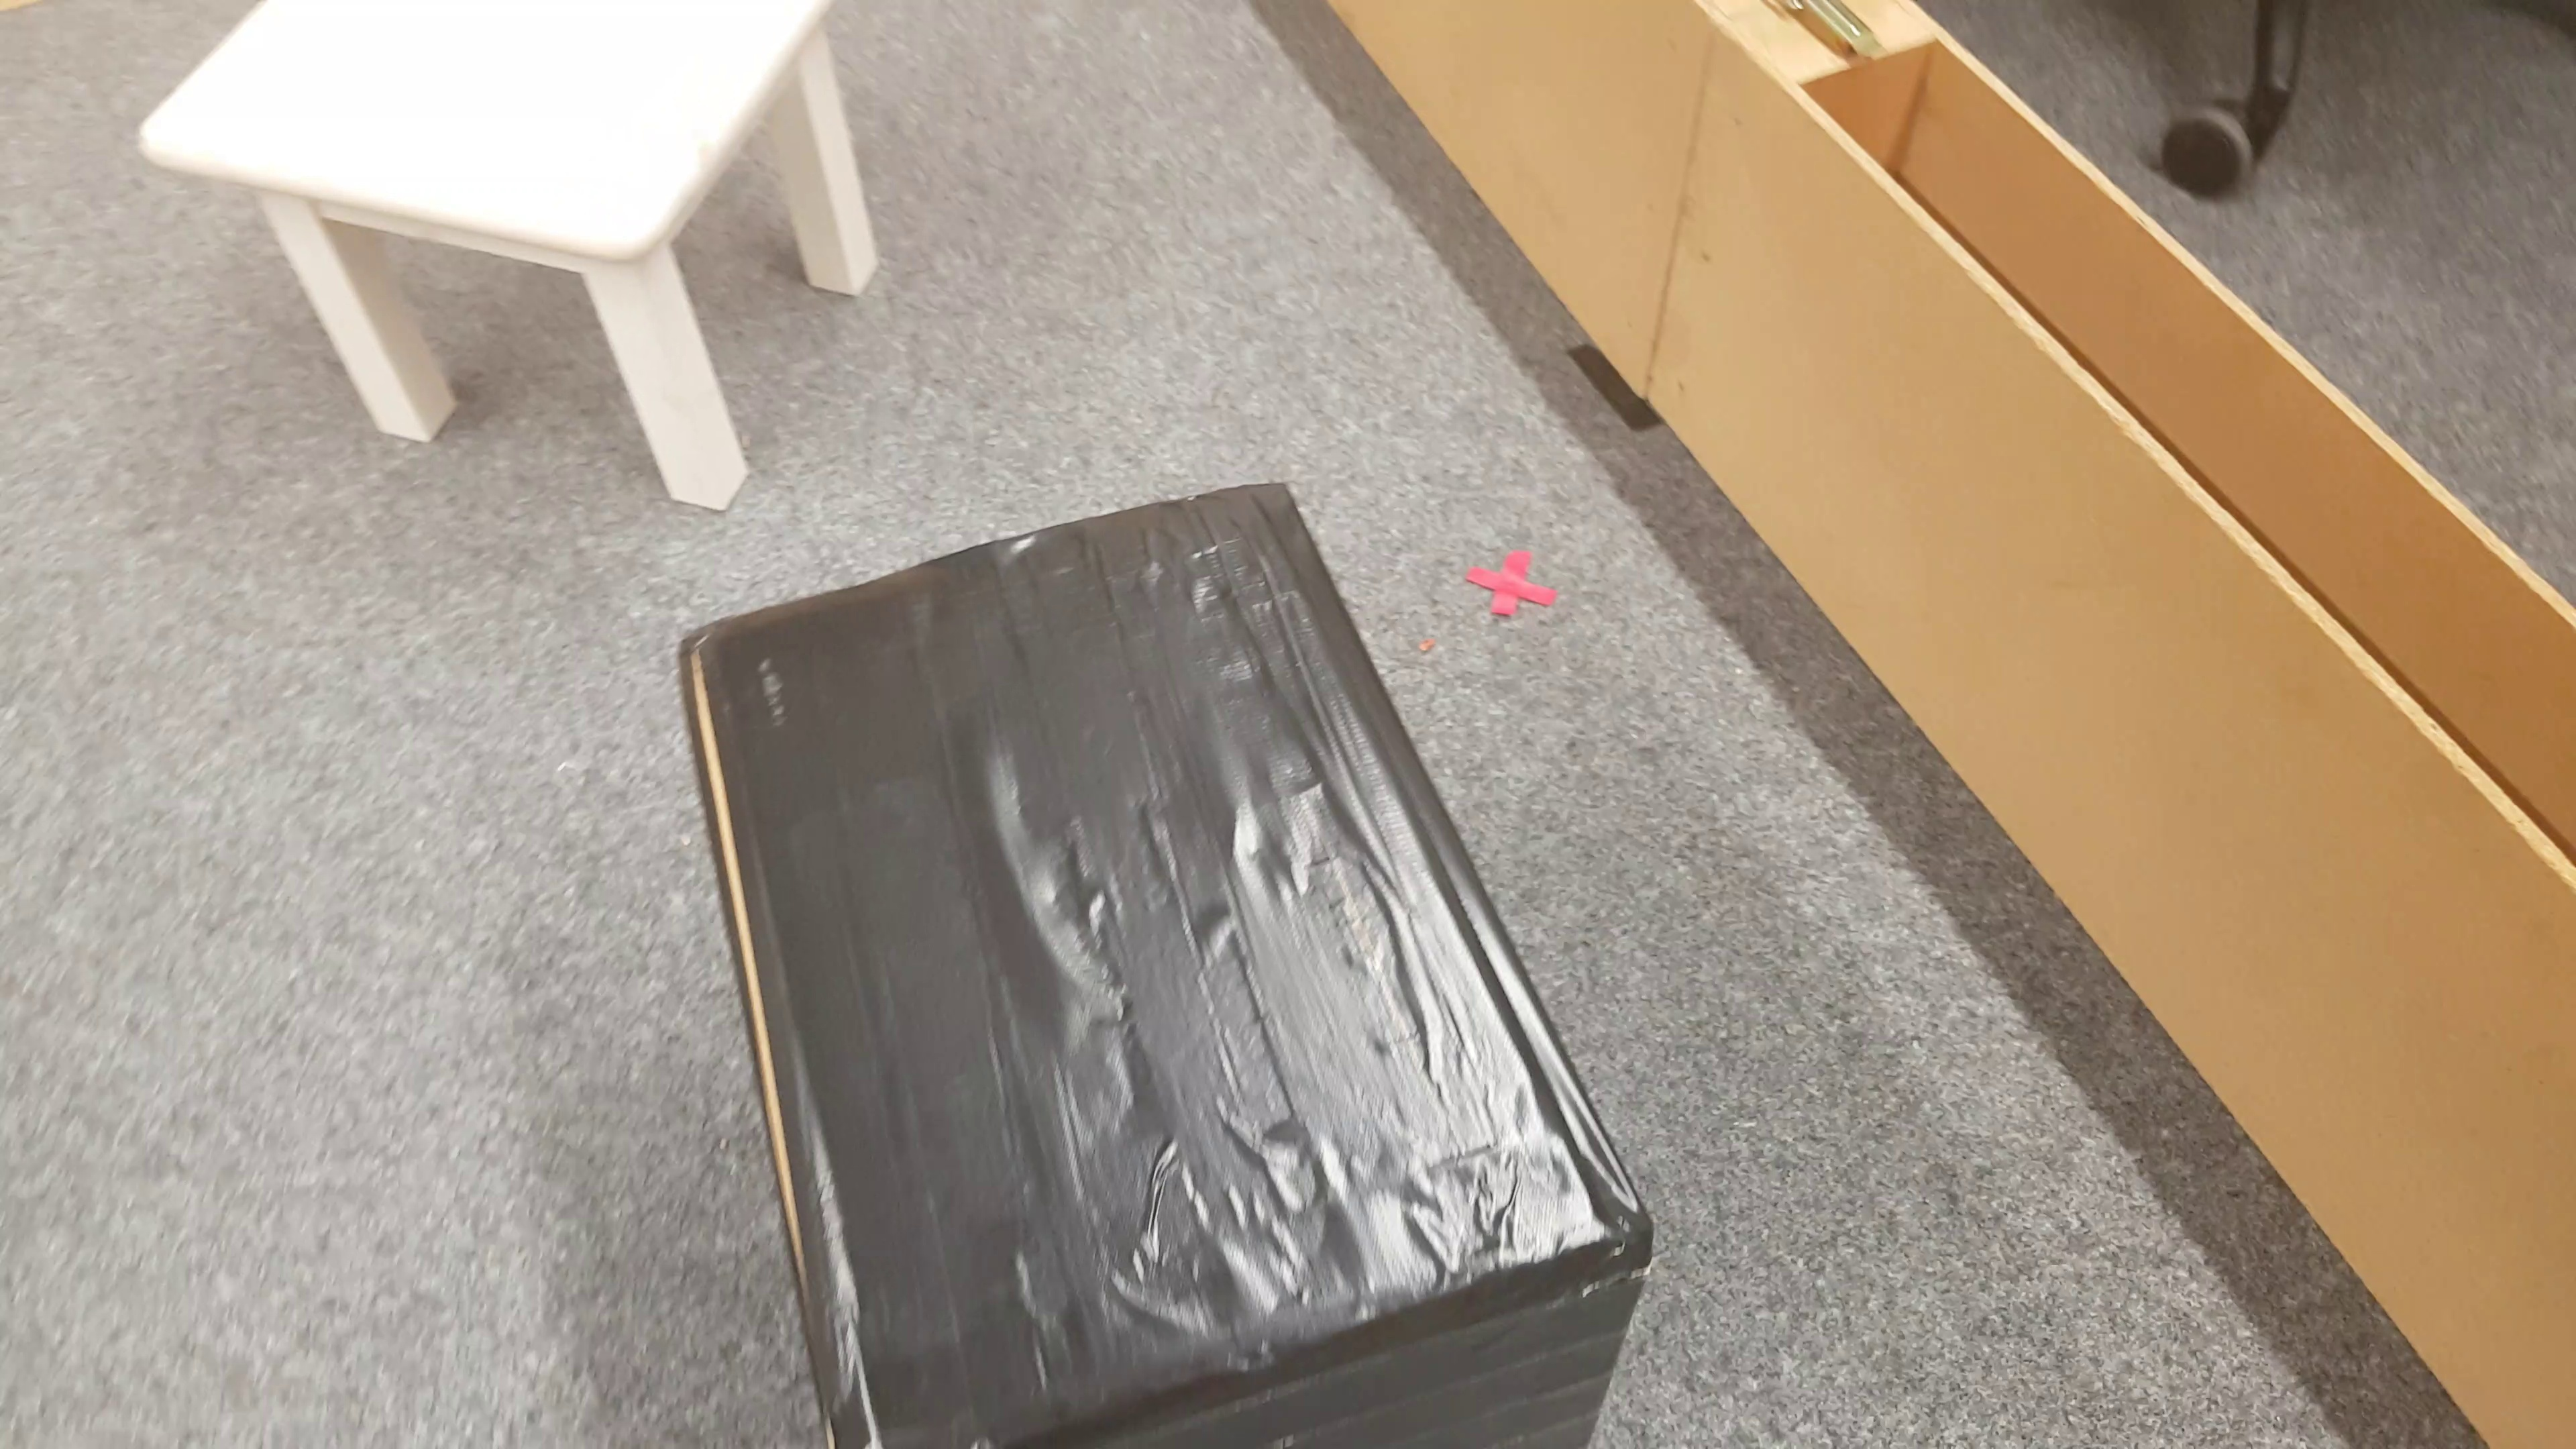push: (690, 479, 1645, 1449)
